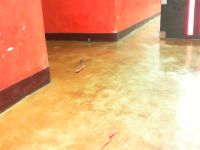switch: (187, 1, 196, 35)
